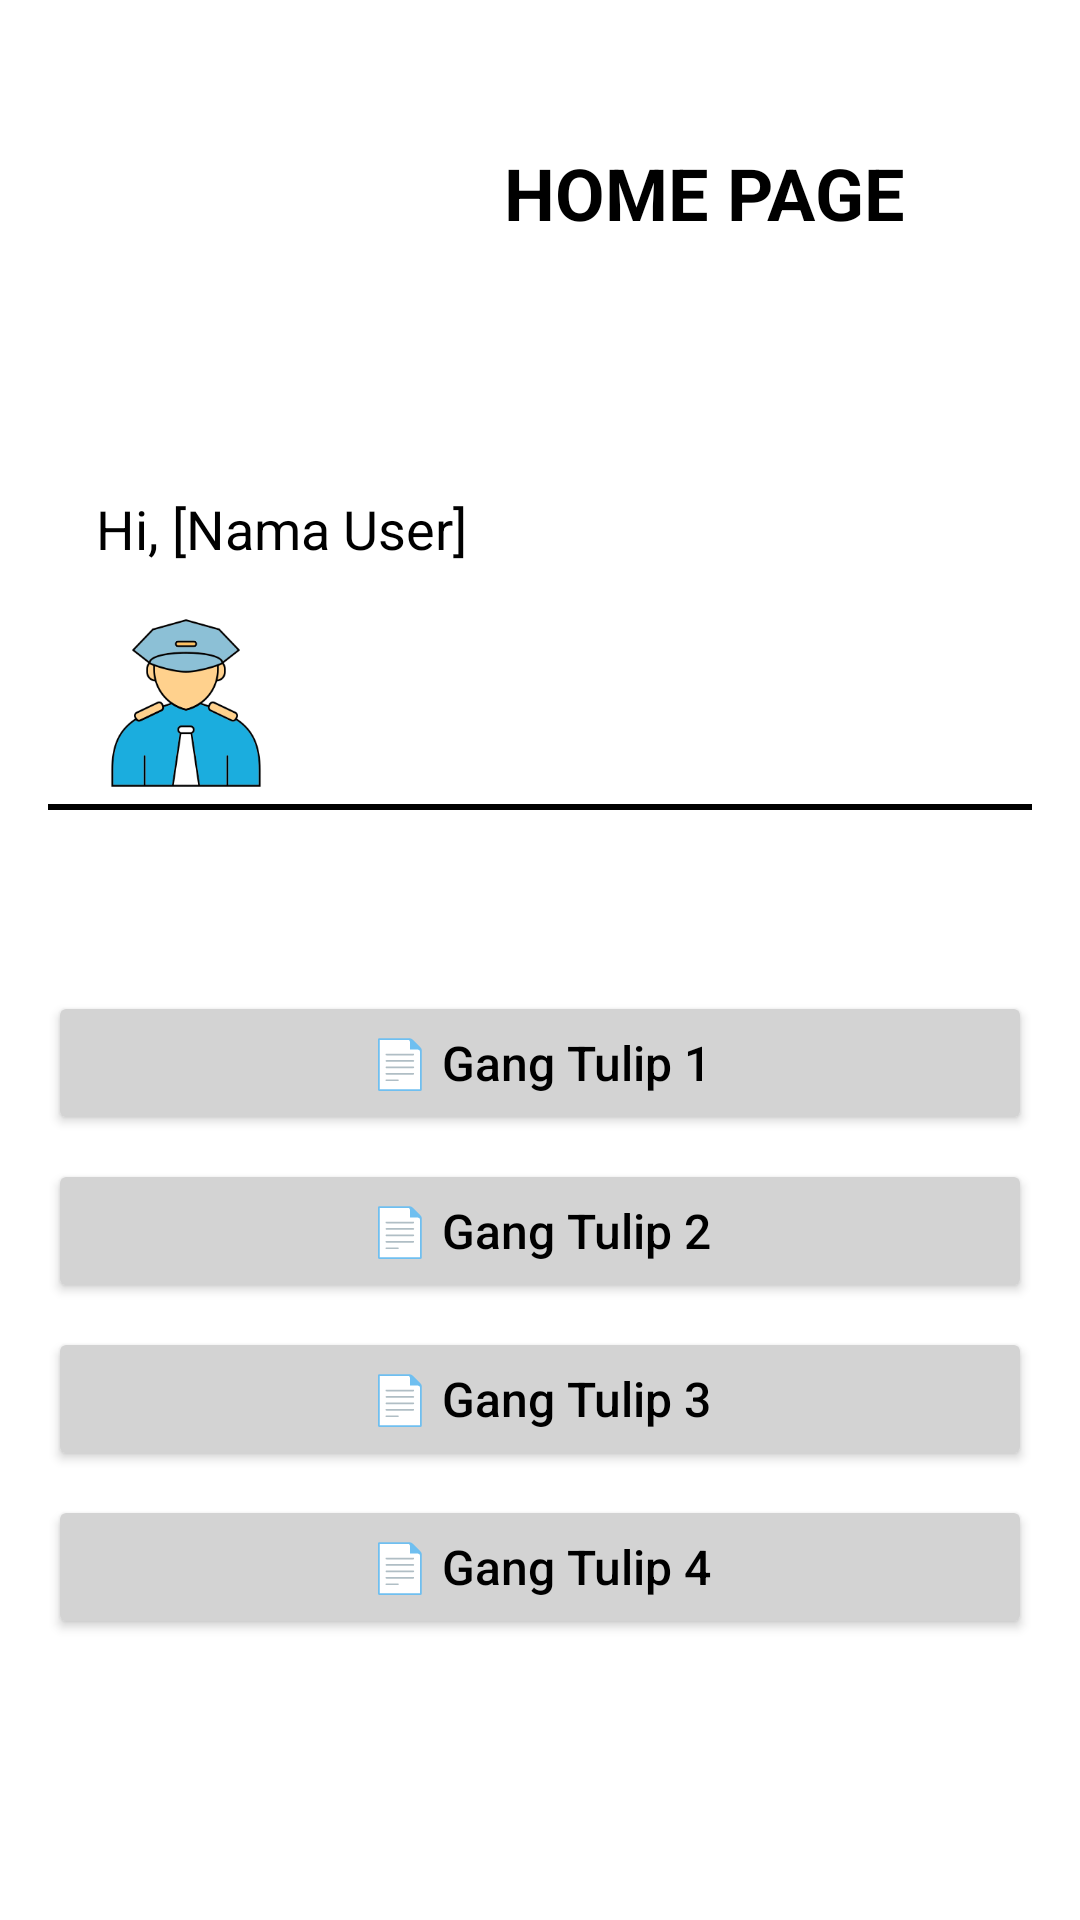

Icon bounding boxes for this 1080*1920 phone screenshot, format [left=x1, top=y1, right=x2, bottom=y2]:
Icon Polis: [left=111, top=619, right=261, bottom=787]
